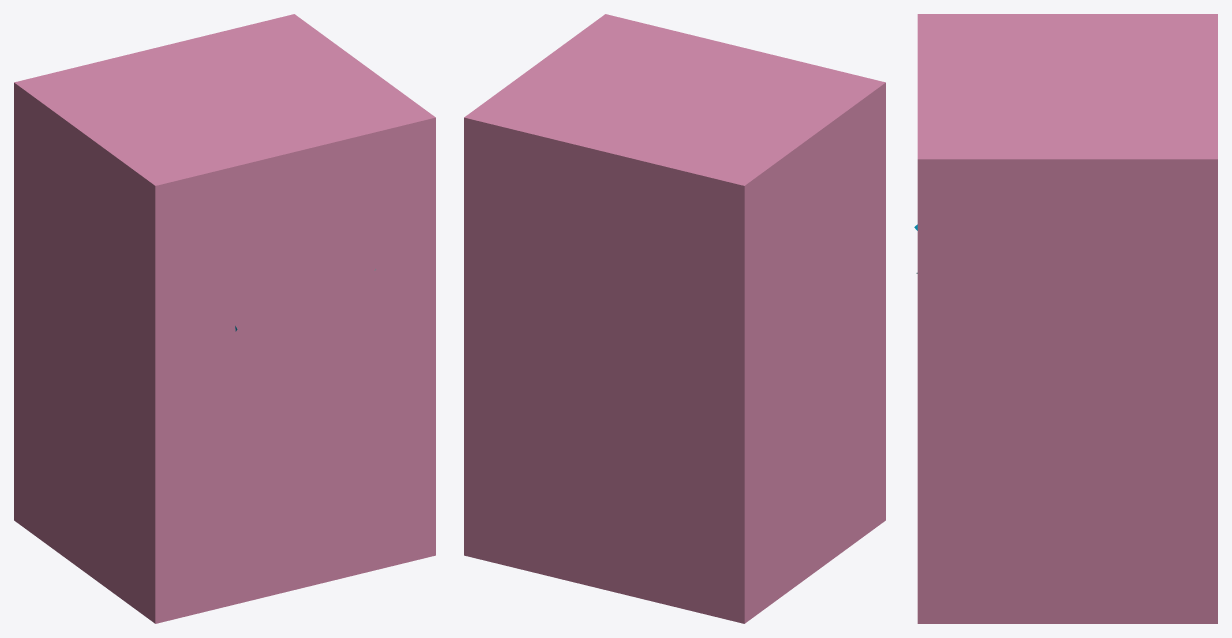
Rendered from tree_beech_small_b.dae.
The picture shows the model from 3 angles, left to right: view 1: azimuth 30°, elevation 25°; view 2: azimuth 150°, elevation 25°; view 3: azimuth 270°, elevation 25°; orthographic projection. The views are drawn at different scales.
Visible parts, largest first — view 1: Untitled; view 2: Untitled; view 3: Untitled.
Part boxes in pixels (x1,y1,x2,y2): Untitled: (14, 14, 435, 623); Untitled: (464, 14, 885, 623); Untitled: (917, 14, 1217, 623).
Bounding box in the file's own units: 4.56 × 4.03 × 7.11.
